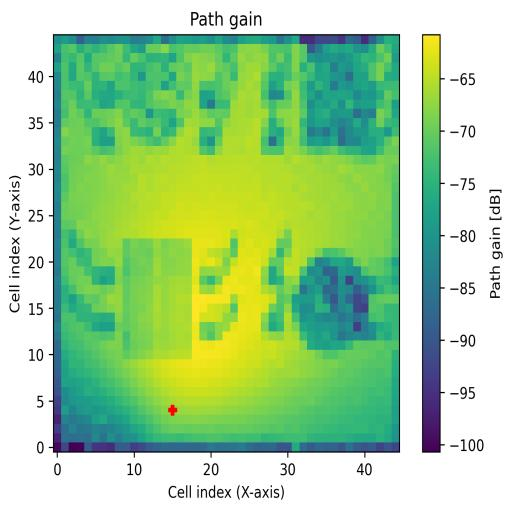Concrete: (300, 44, 383, 154)
Glass: (123, 44, 191, 147)
Metal: (292, 248, 376, 360)
Wood: (123, 238, 191, 359)
